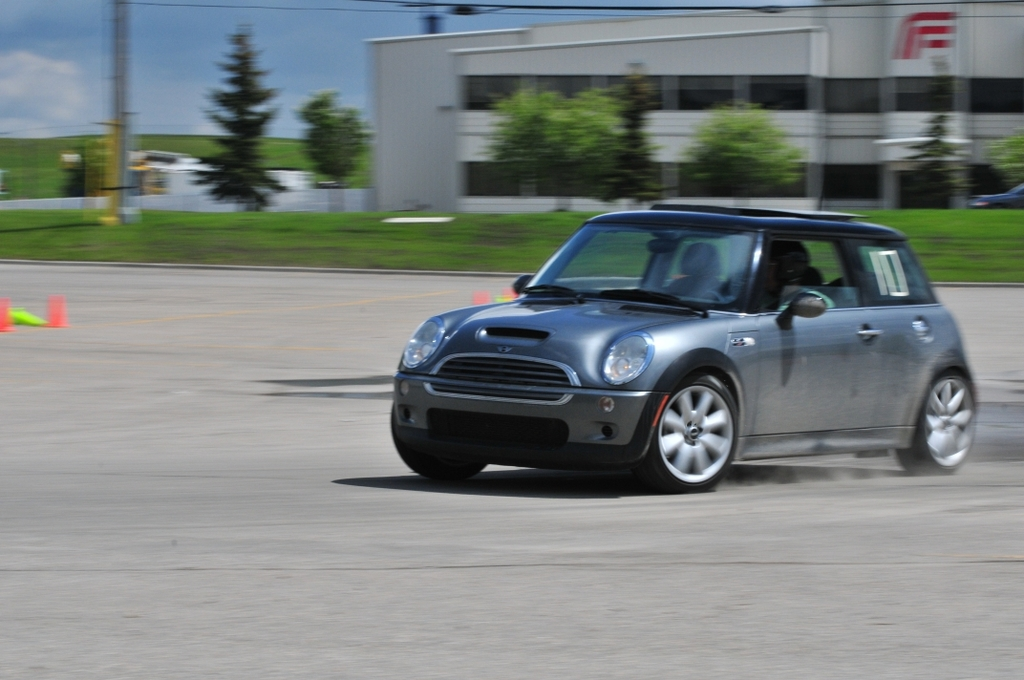Car: (383, 200, 980, 490)
